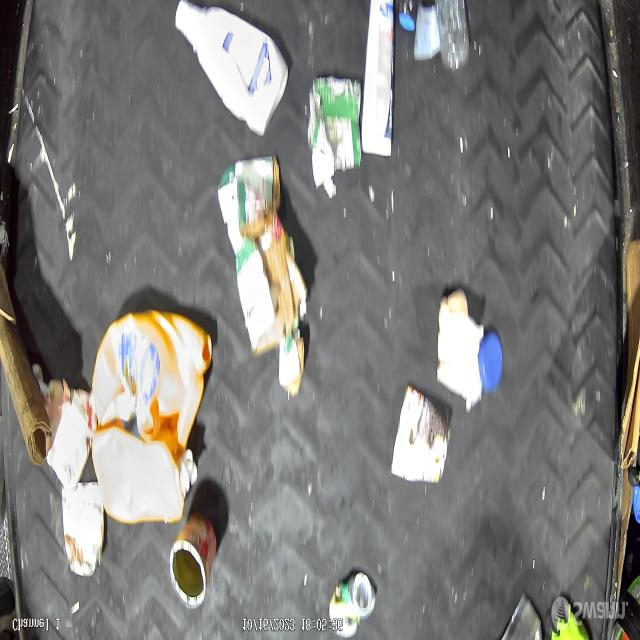can: (168, 518, 216, 605), (330, 574, 374, 640)
non_white_jug: (92, 314, 211, 448), (94, 433, 191, 525)
